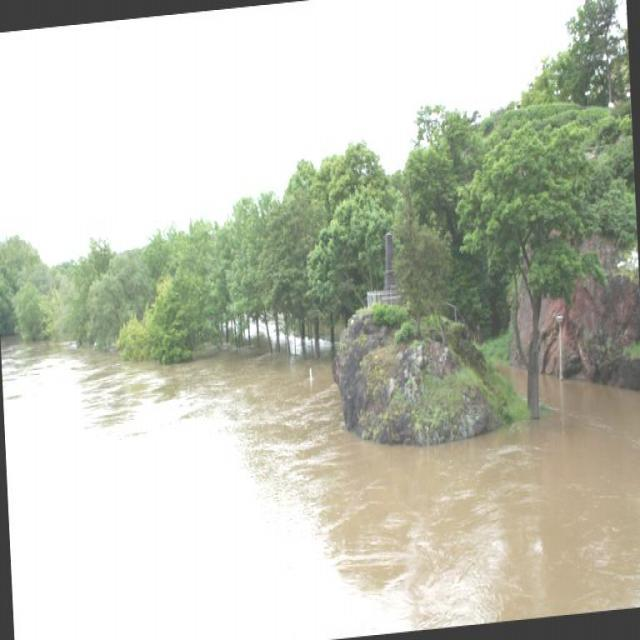flood: (0, 279, 639, 639)
